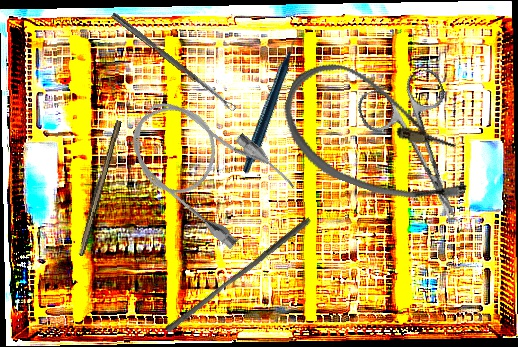Cannula: (267, 51, 491, 222), (113, 78, 300, 256)
Handpiece: (198, 33, 350, 175)
Iris Scissors: (353, 66, 490, 235)
Pusher: (163, 211, 313, 339)
Scalpel Handle: (76, 119, 122, 257)
Surgical Spoon: (110, 12, 237, 113)
